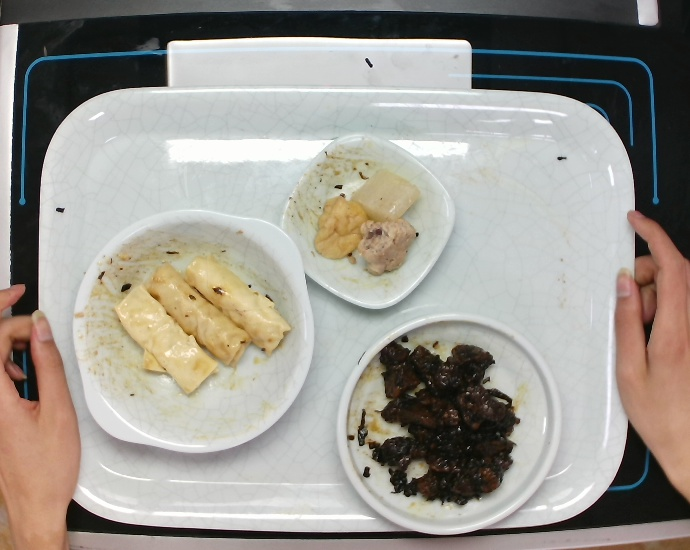JYsf-Shuang_Er_Wan: (62, 209, 320, 456)
JYsf-Si_Fang_Die: (279, 133, 455, 311)
JYsf-Xiao_Yuan_Pan: (341, 314, 561, 536)
